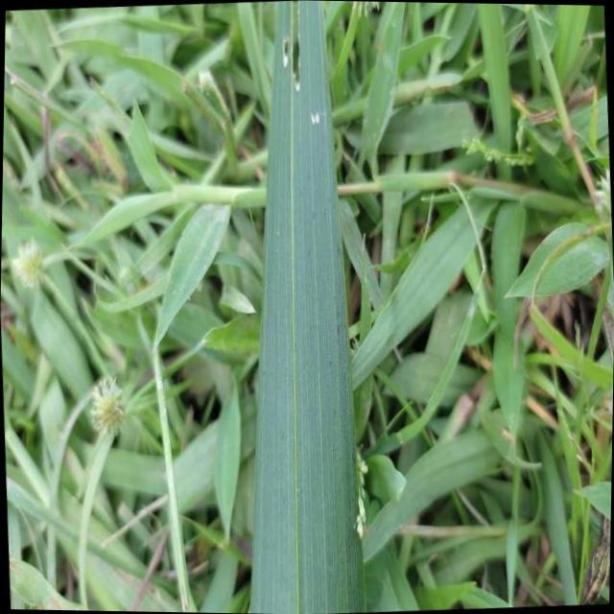Boron: (248, 0, 363, 614)
